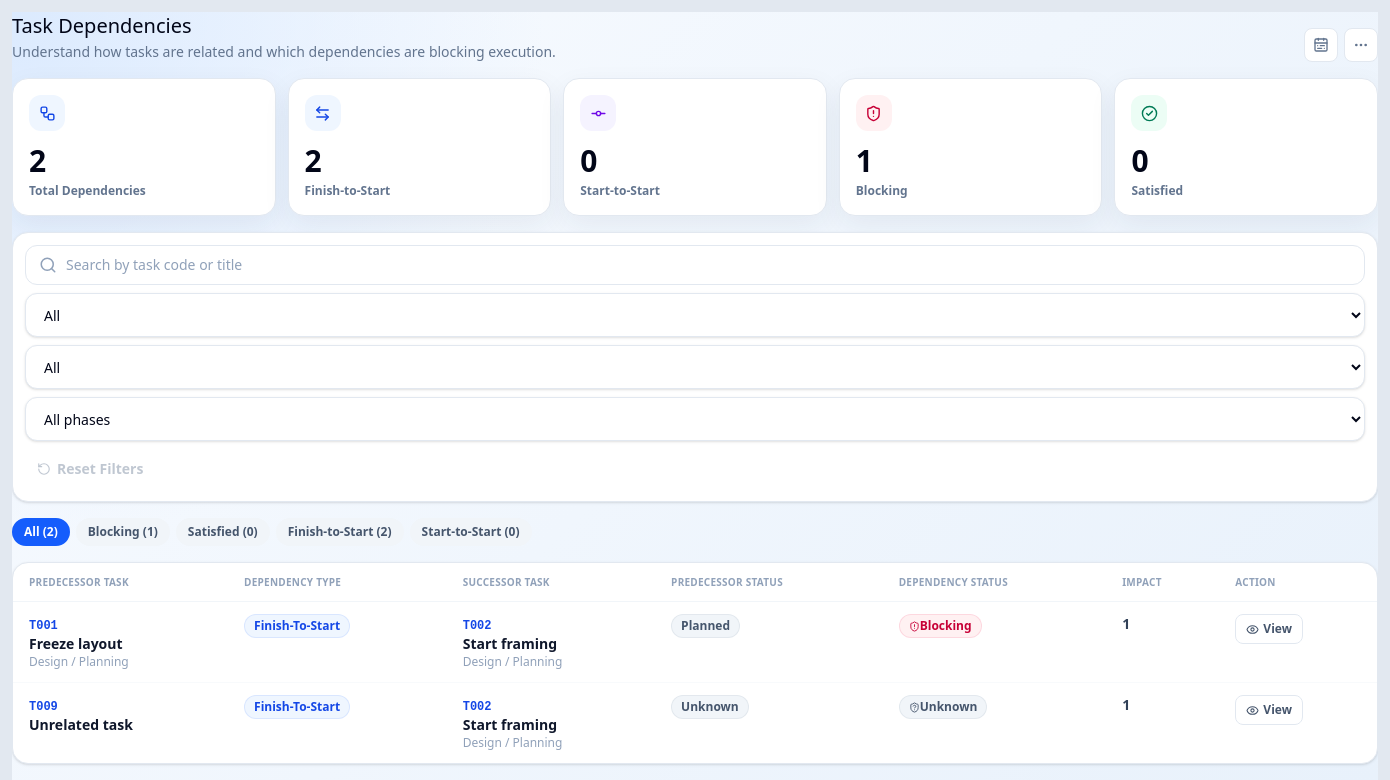
Scenario: DependencyControlView › filters by search
This screenshot has width=1390, height=780.
Expected: the text "Freeze layout" is shown, [29,634,123,653]
Step 1. Type "Unrelated" into the field with placeholder "Search by task code or title" → (695, 265), box [25,245,1365,285]
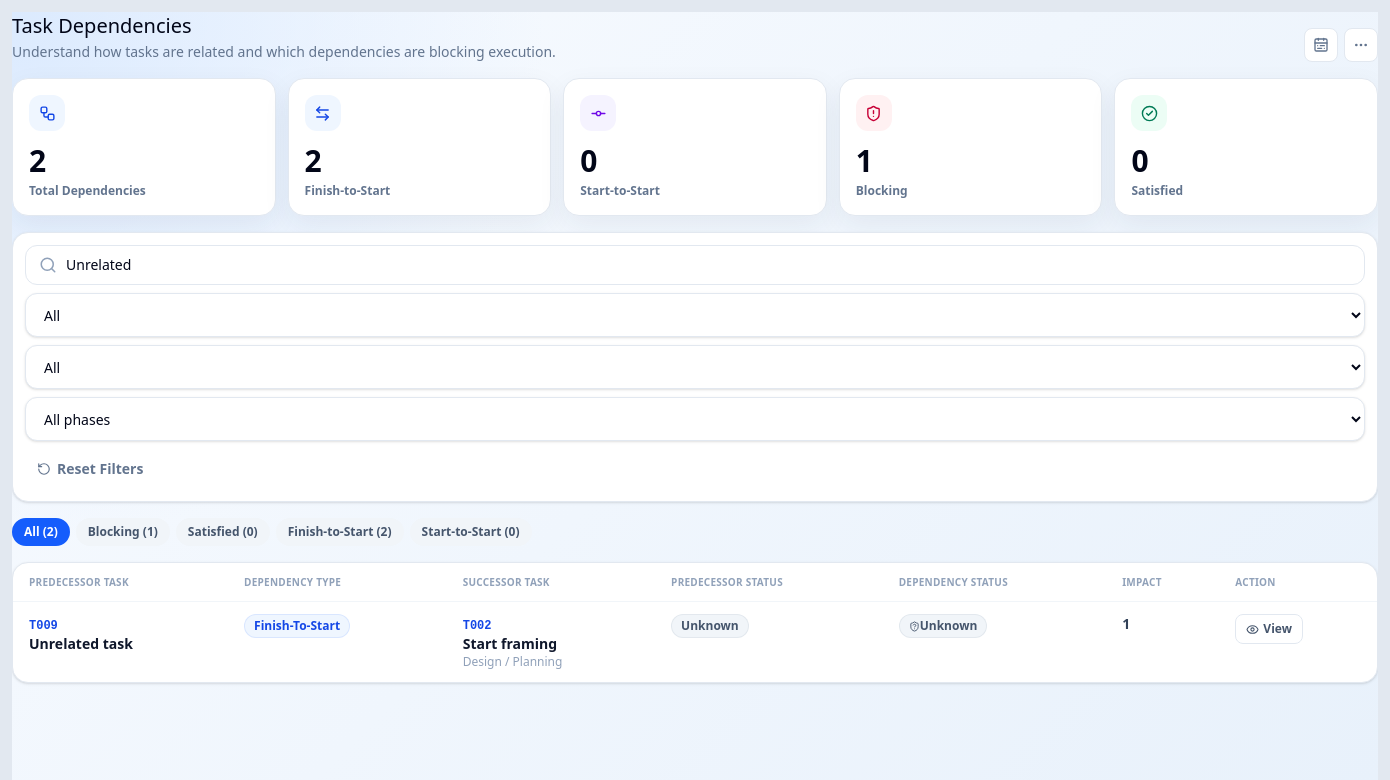
Expected: the text "Unrelated task" is shown, [29,634,133,653]
Now the text "Freeze layout" is gone
